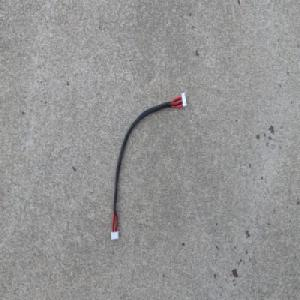Wire: (109, 89, 188, 242)
